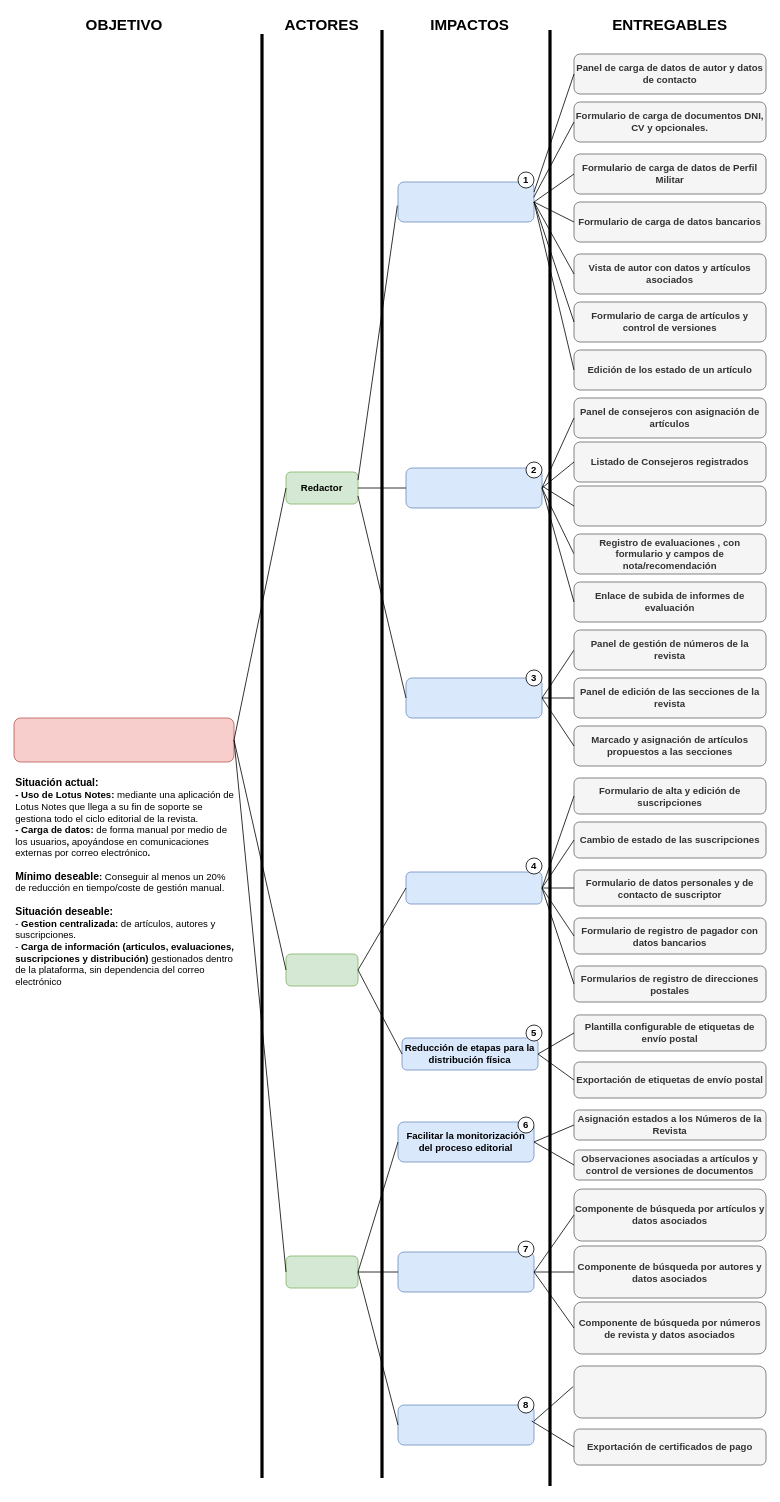
Some shapes in this 780 by 1502 pixel diagram are drawn without their labels. The box of each missing label's shape, as (x1, y1, x2, y2) in pixels:
Agilizar el ciclo de evaluación de artículos: (405, 467, 542, 508)
Alta, baja y edición de Consejeros en el sistema: (573, 485, 766, 526)
Centralizar la gestión de suscripciones y suscriptores: (405, 871, 542, 904)
Consolidar la configuración de los números de la revista: (405, 677, 542, 718)
Dirección: (285, 1255, 358, 1288)
Distribuidor: (285, 953, 358, 986)
Mantener el control de pagos actualizado: (397, 1404, 534, 1445)
Mantener la continuidad de negocio con minimizacion de costes: (13, 717, 234, 762)
Plantilla de certificados de pago sobre artículos publicados: (573, 1365, 766, 1418)
Recibir información detallada sobre la revista: (397, 1251, 534, 1292)
Reducir los pasos para registrar artículos, autores y su documentación asociada: (397, 181, 534, 222)
